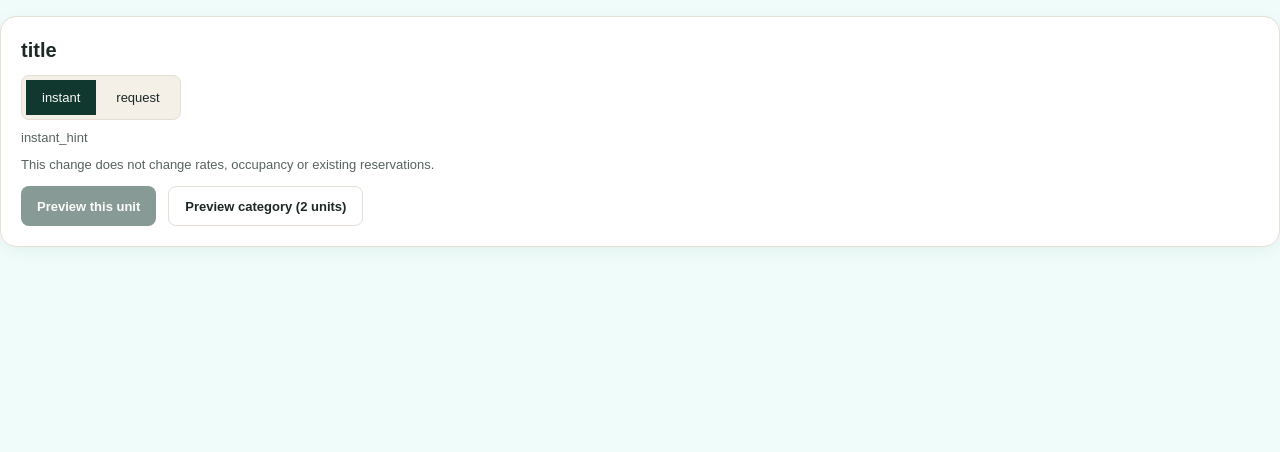
Test case: reviewed per-unit booking mode › requires a real target preview and explicit confirmation before writing
Expected: the button "Preview this unit" is disabled, [21,186,156,226]
Click the radio button labelled "request".
click(138, 98)  # box [100,80,176,115]
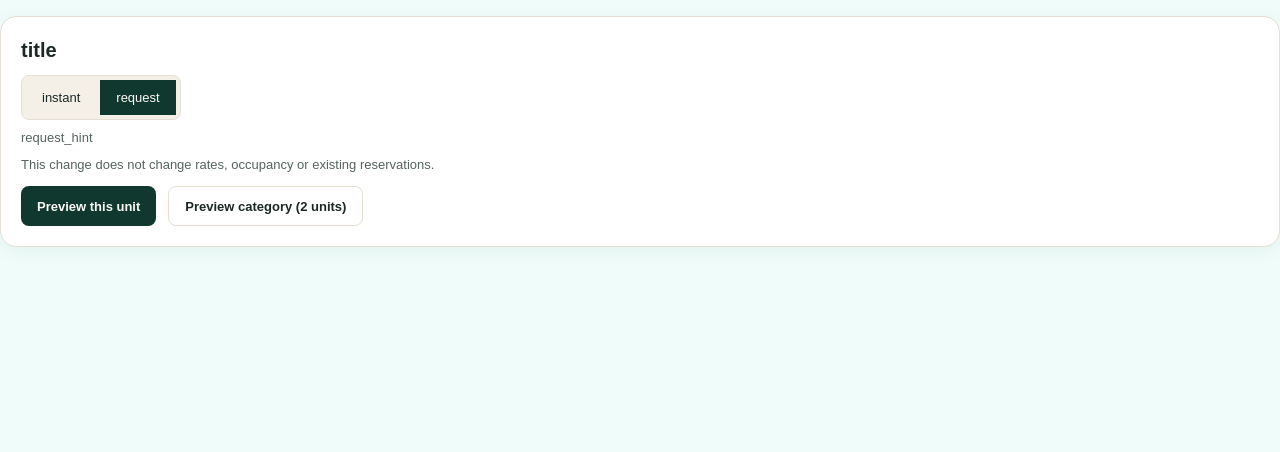
Click the button "Preview this unit".
click(89, 206)  # box [21,186,156,226]
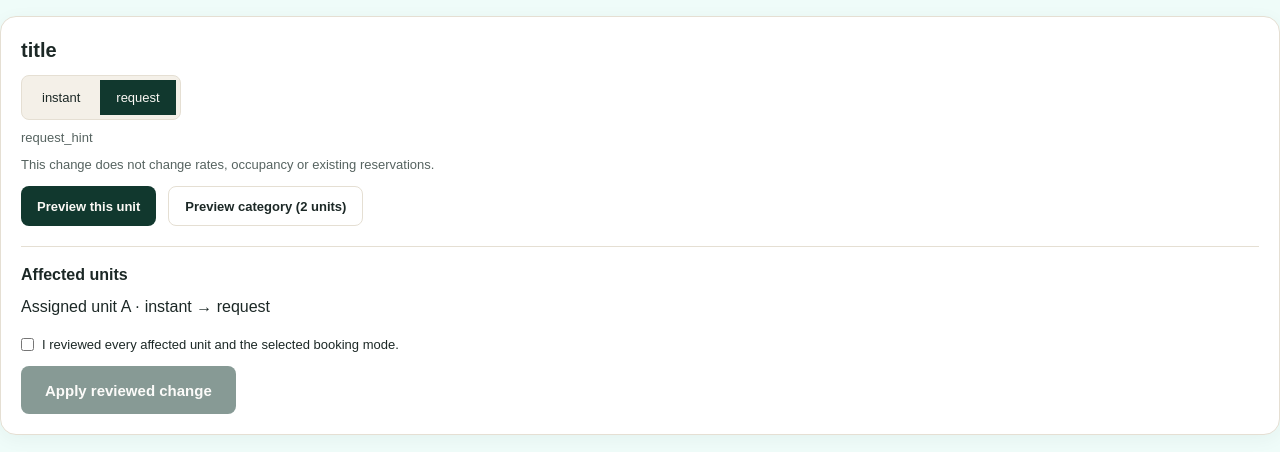
Result: the list item "Assigned unit A · instant → request" is shown at [21,298,270,315]
Result: the button "Apply reviewed change" is disabled at [21,366,236,414]
Click the checkbox.
click(28, 344)  # box [21,335,34,354]
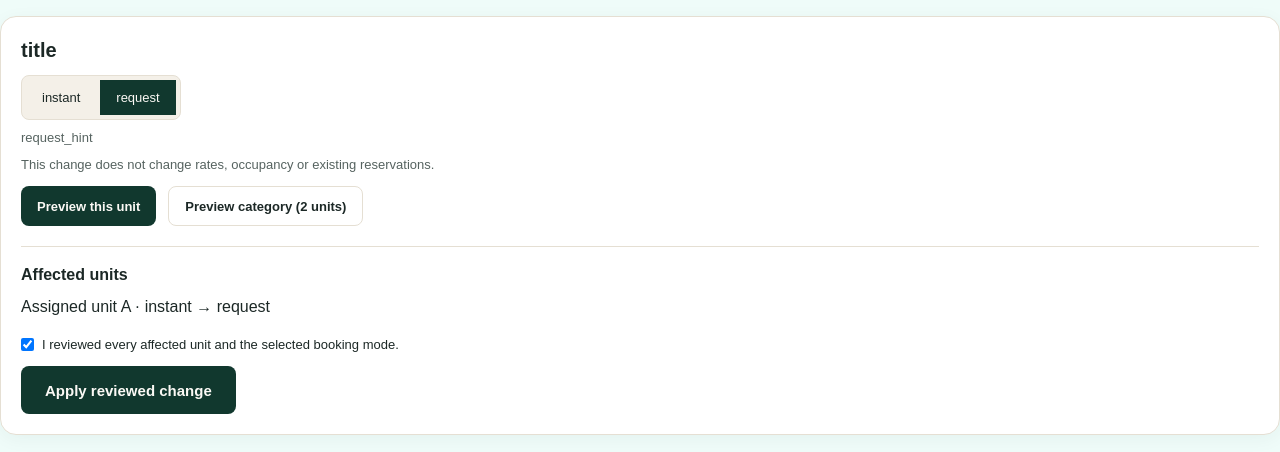
Click the button "Apply reviewed change".
click(128, 390)  # box [21,366,236,414]
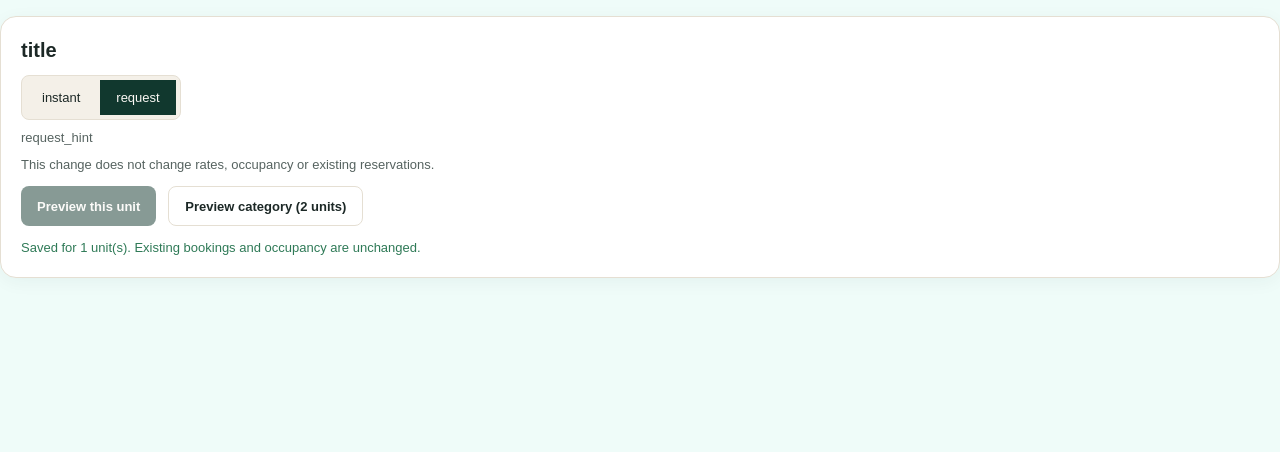
Result: the message shows "Saved for 1 unit" at [21,240,421,255]
Result: the button "Preview this unit" is disabled at [21,186,156,226]
